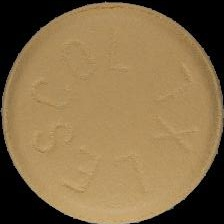68151-4471: (0, 0, 224, 224)
